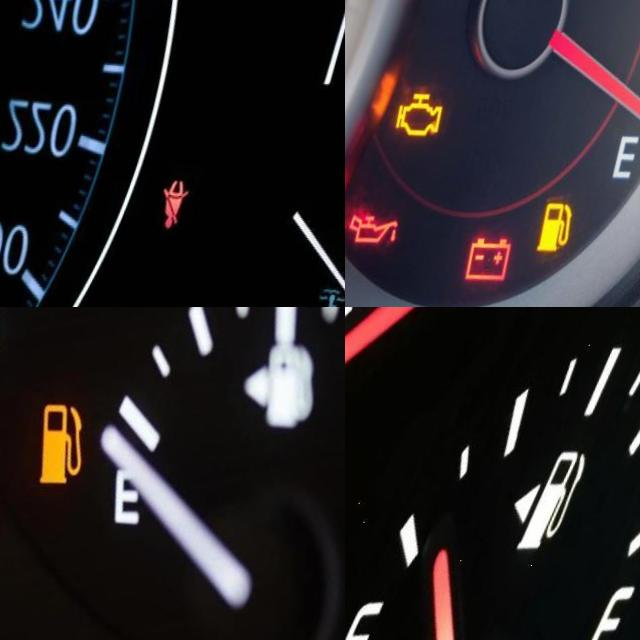Seat Belt: (173, 170, 210, 219)
